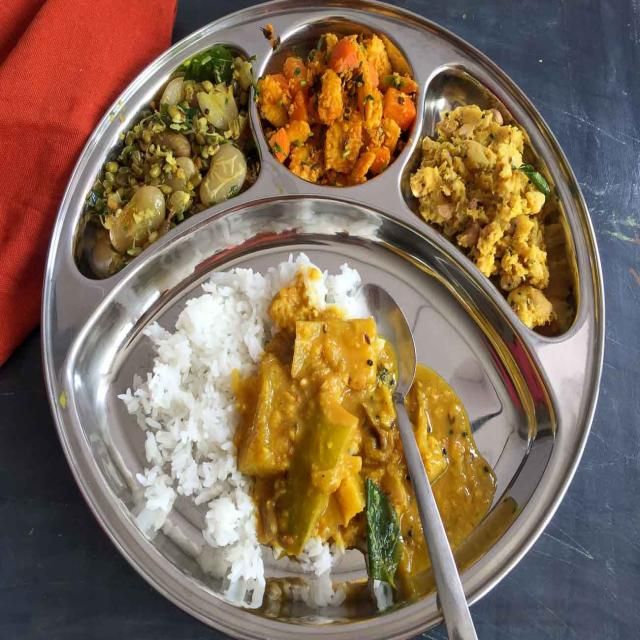veg meals: (61, 0, 591, 632)
